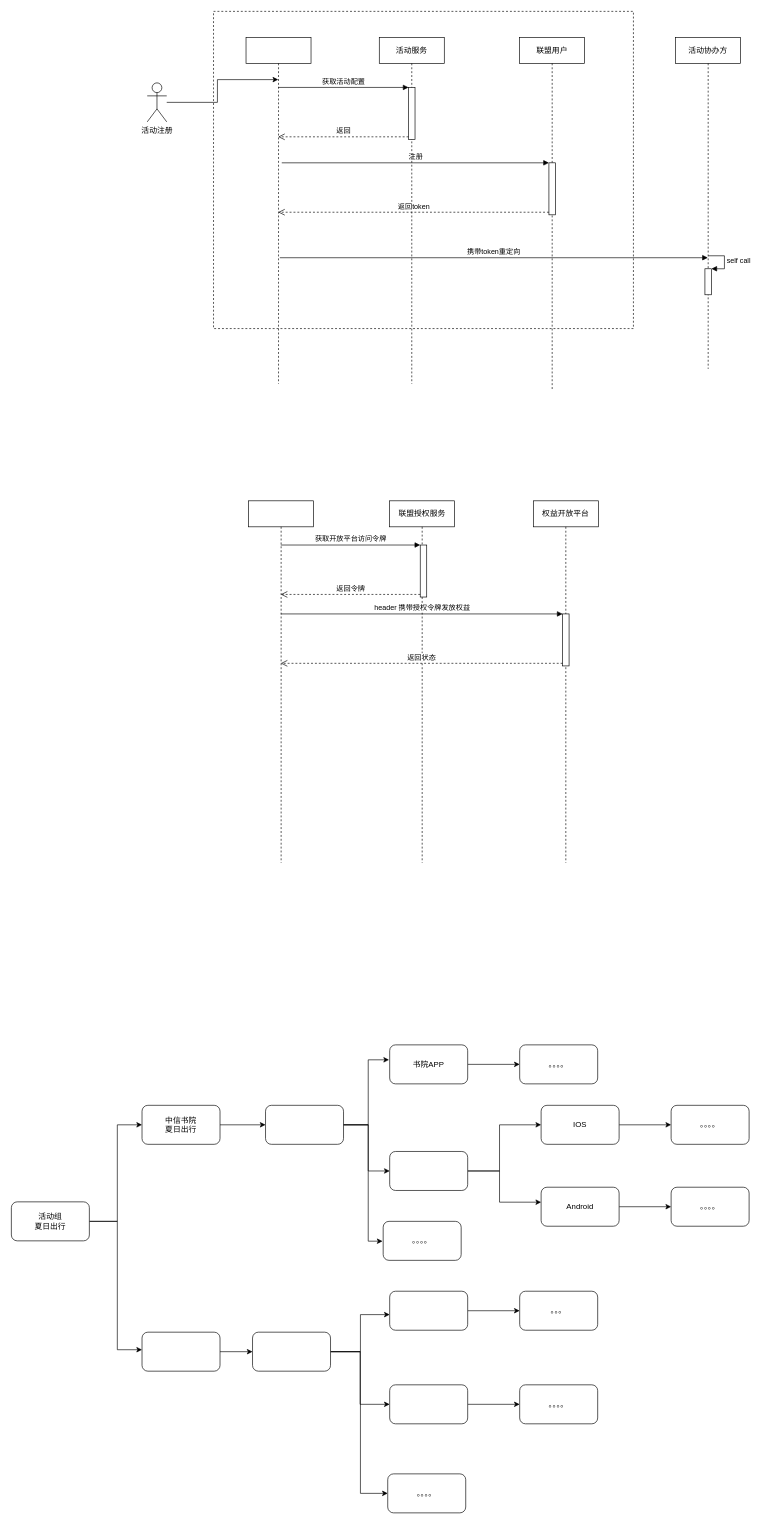
Some shapes in this 762 by 1524 pixel diagram are drawn without their labels. The shapes that lost their labels are listed below. From the top down, each one's box as (x1, y1, x2, y2) in pixels, then its label:
(245, 37, 311, 384): 联盟注册模板
(248, 500, 314, 863): 协办方服务
(265, 1105, 344, 1144): 中信书院 渠道组
(389, 1151, 468, 1190): 携程
(389, 1291, 468, 1330): 动卡空间
(141, 1332, 220, 1371): 信用卡中心 夏日出行
(252, 1332, 331, 1371): 信用卡中心 渠道组
(389, 1384, 468, 1424): 卡超市
